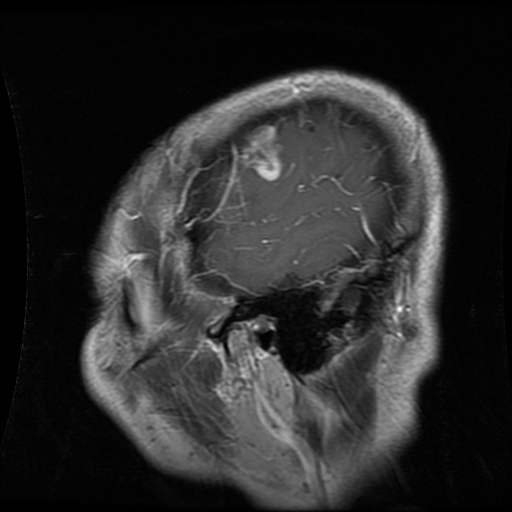glioma: (235, 124, 281, 179)
